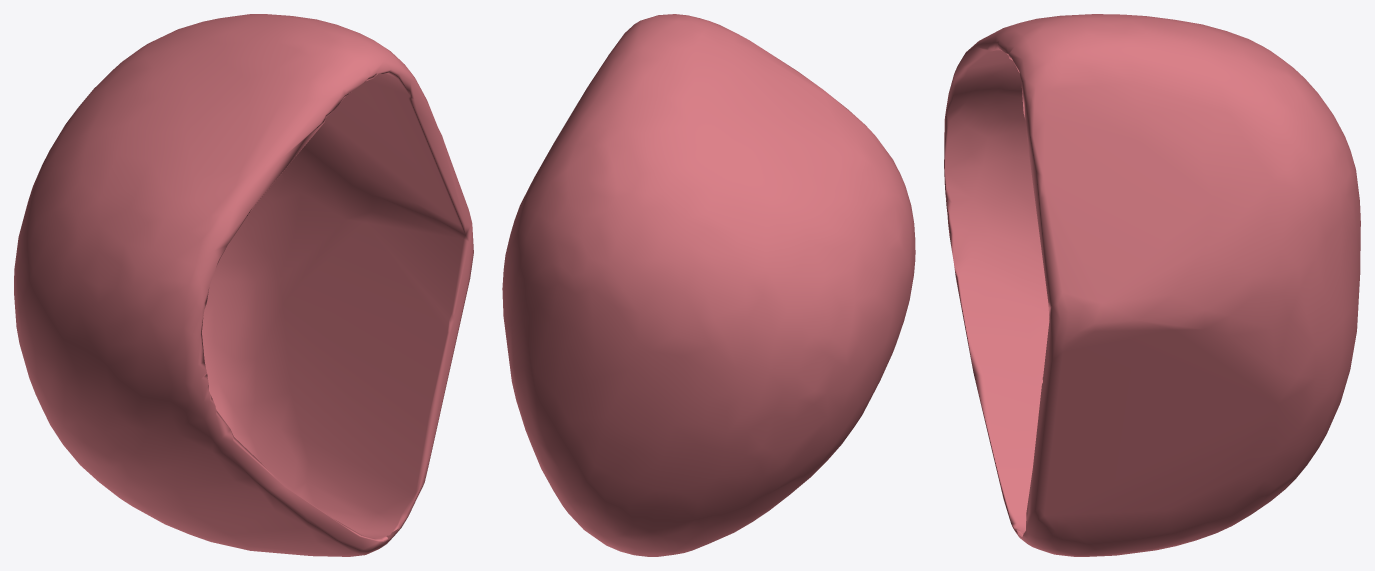
The picture shows the model from 3 angles, left to right: view 1: azimuth 30°, elevation 25°; view 2: azimuth 150°, elevation 25°; view 3: azimuth 270°, elevation 25°; orthographic projection. The views are drawn at different scales.
Visible parts, largest first — view 1: 肺动脉瓣右半月瓣; view 2: 肺动脉瓣右半月瓣; view 3: 肺动脉瓣右半月瓣.
Part boxes in pixels (x1=…): 肺动脉瓣右半月瓣: x1=14, y1=14, x2=473, y2=556; 肺动脉瓣右半月瓣: x1=502, y1=14, x2=915, y2=556; 肺动脉瓣右半月瓣: x1=944, y1=14, x2=1360, y2=556.
Size of the model in its own units: 0.0287 by 0.0366 by 0.0262.
